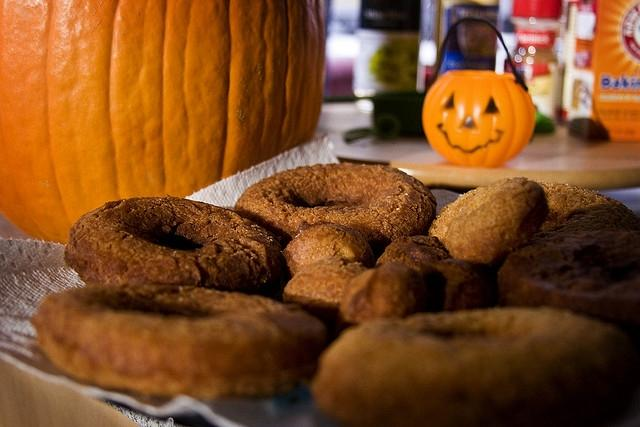pumpkin: (1, 1, 326, 246), (422, 69, 536, 168)
